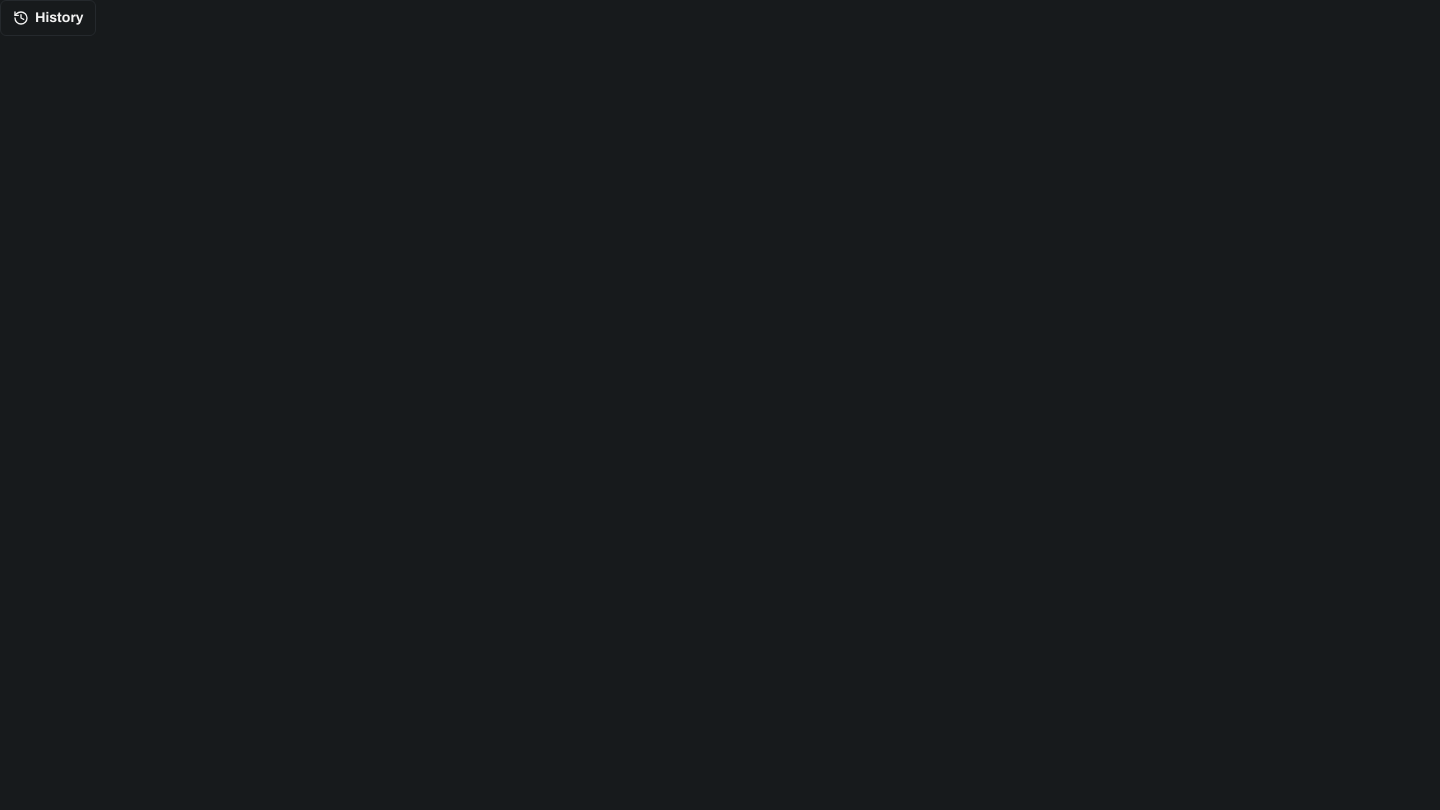
History shows what was bought back in › shows the totals on the card and each player's when it is opened
This screenshot has width=1440, height=810.
Click the button "History" at (48, 18), box [0,0,96,36]
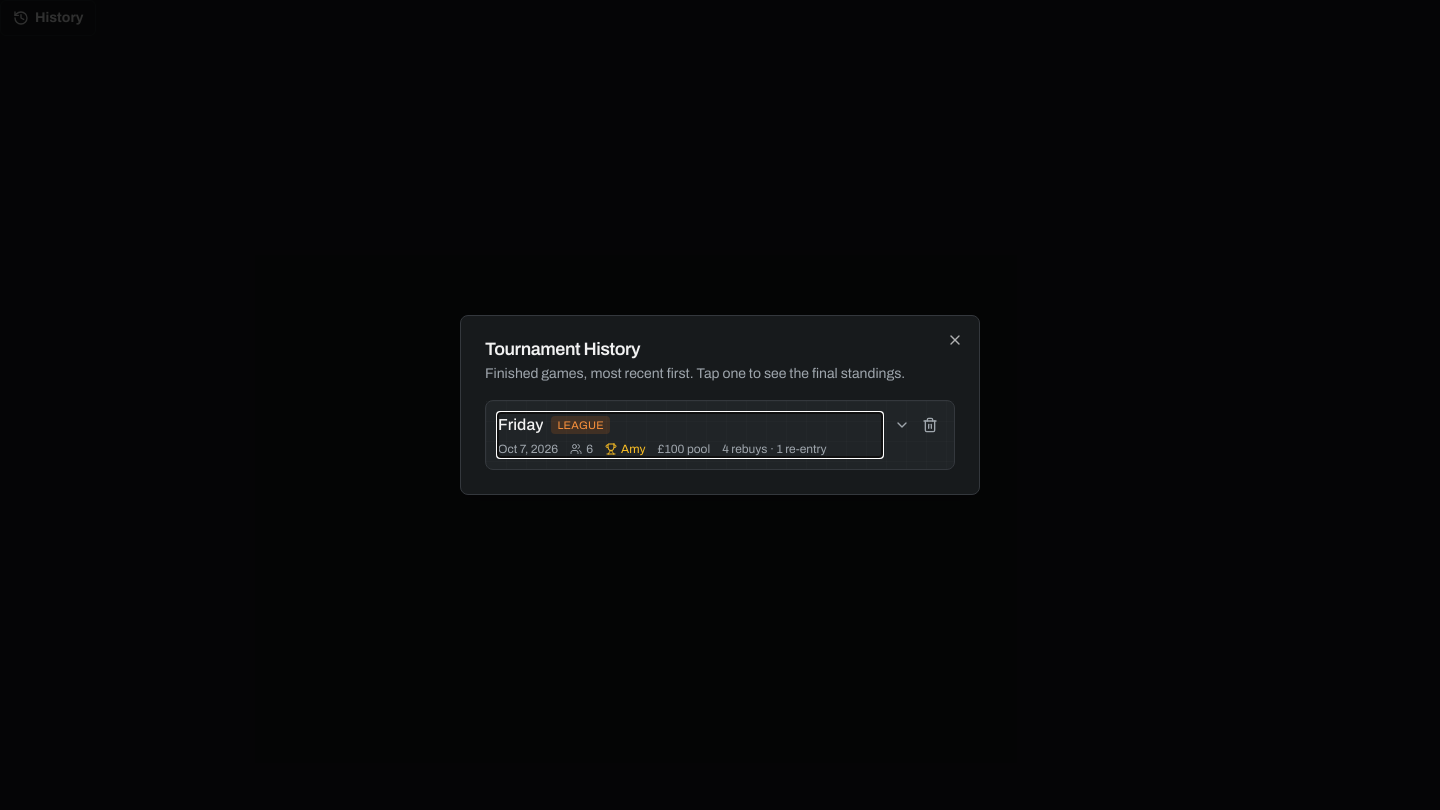
Result: the text "4 rebuys · 1 re-entry" is shown at [722,441,827,457]
Click the text "Friday" at (521, 425), box [498,413,544,437]
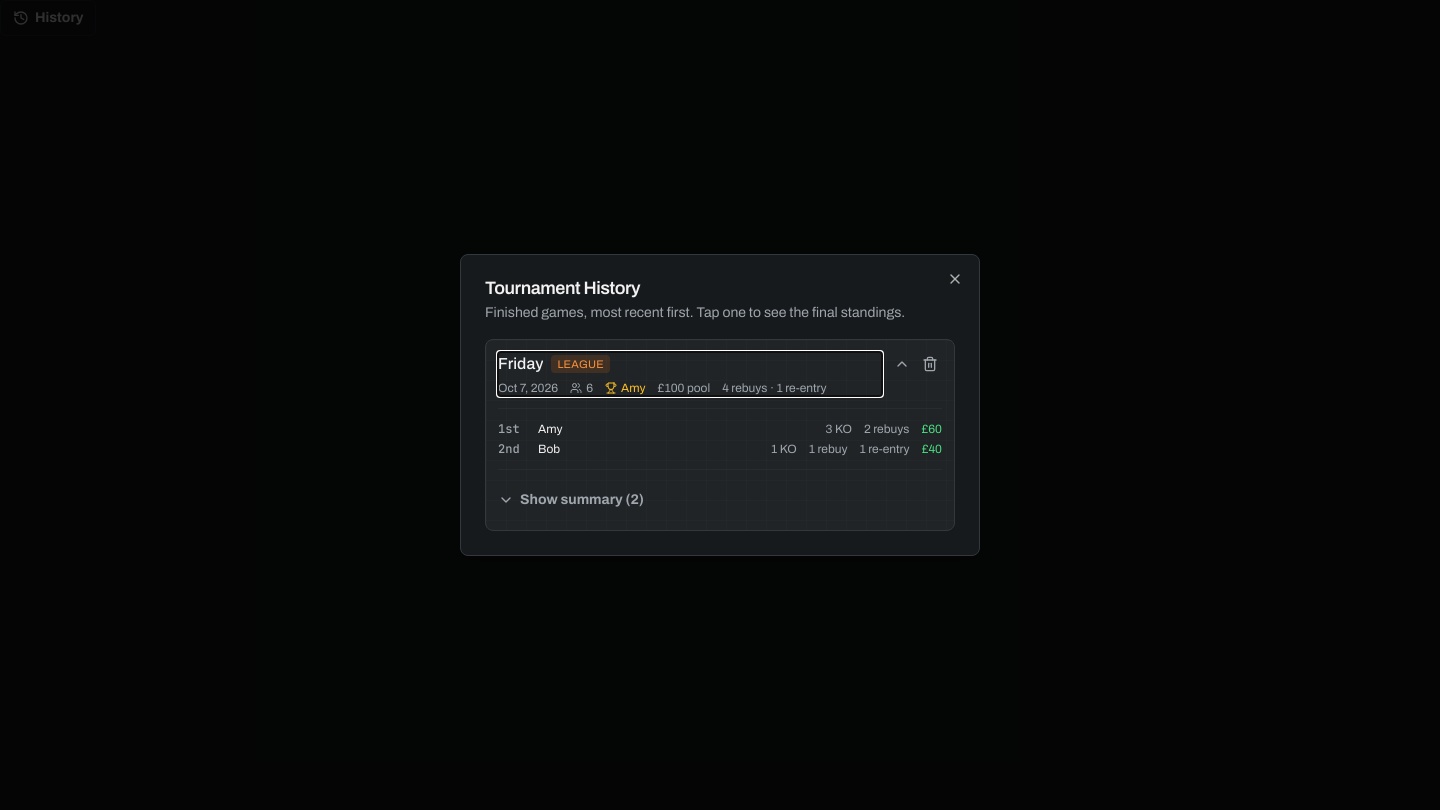
Result: the text "2 rebuys" is shown at [864,421,909,437]
Result: the text "1 re-entry" is shown at [860,441,910,457]
